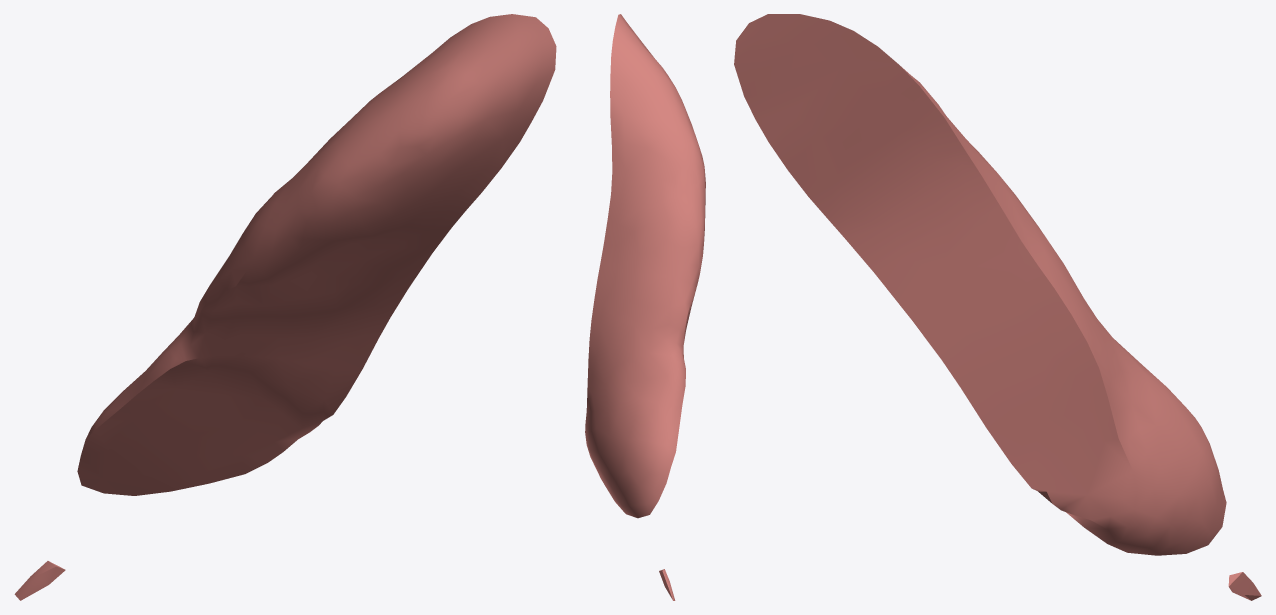
Rendered from fma298603_mm4001.glb.
3 views of the same model, side by side, from view 1: azimuth 30°, elevation 25°; view 2: azimuth 150°, elevation 25°; view 3: azimuth 270°, elevation 25° (orthographic). The views are drawn at different scales.
Visible parts, largest first — view 1: FMA298603_MM4001; view 2: FMA298603_MM4001; view 3: FMA298603_MM4001.
Boxes of the visible parts, x1,y1,x2,y2 form: FMA298603_MM4001: (14,14,556,600); FMA298603_MM4001: (585,14,705,600); FMA298603_MM4001: (734,14,1261,600).
Bounding box in the file's own units: 0.0219 × 0.0452 × 0.0287.
